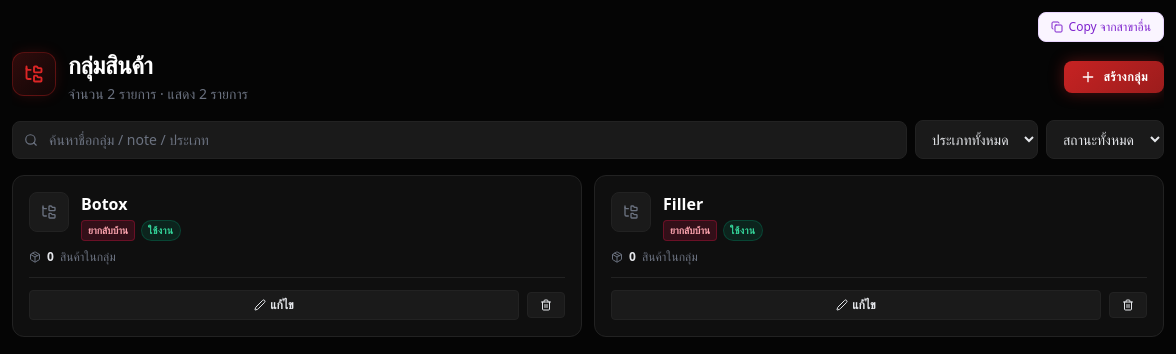
ProductGroupsTab — PU1..PU10 › PU3: search filters by name (case-insensitive)
The width and height of the screenshot is (1176, 354).
Check: the heading "Botox" is shown, box [81, 193, 127, 215]
Type "fil" into the field with placeholder "ค้นหาชื่อกลุ่ม / note / ประเภท".
click(460, 140); type("fil")  # box [12, 120, 907, 158]
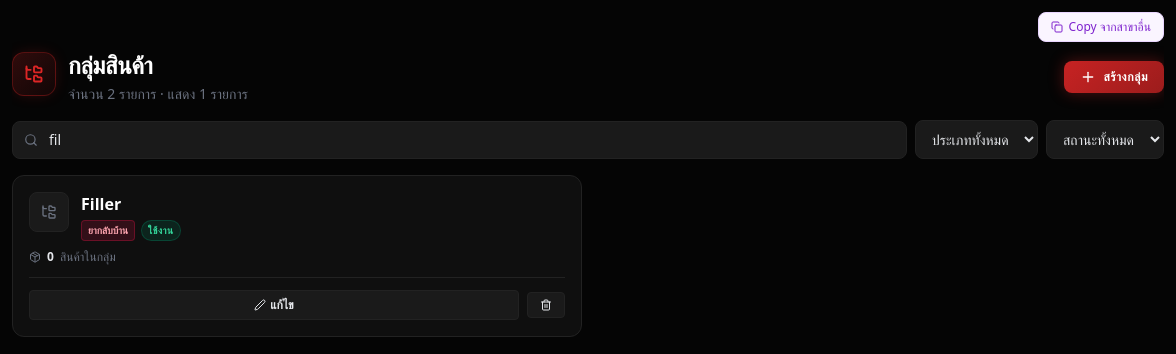
Check: the heading "Filler" is shown, box [81, 193, 121, 215]
Check: the heading "Botox" is gone
